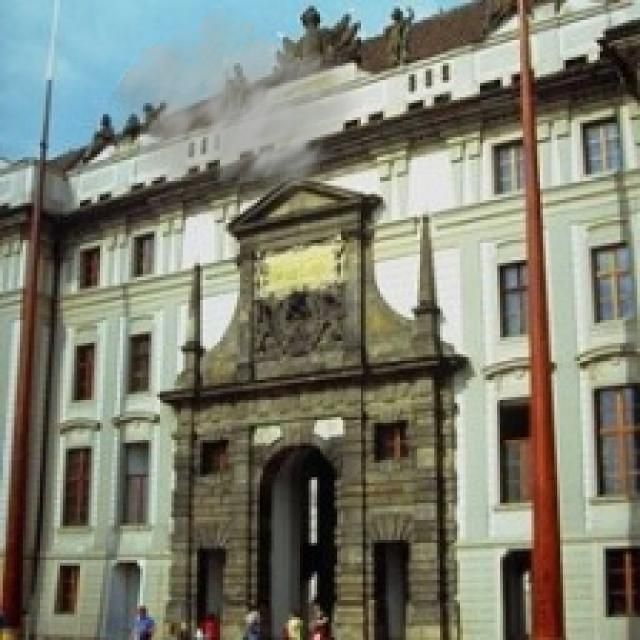smoke: (100, 3, 369, 228)
